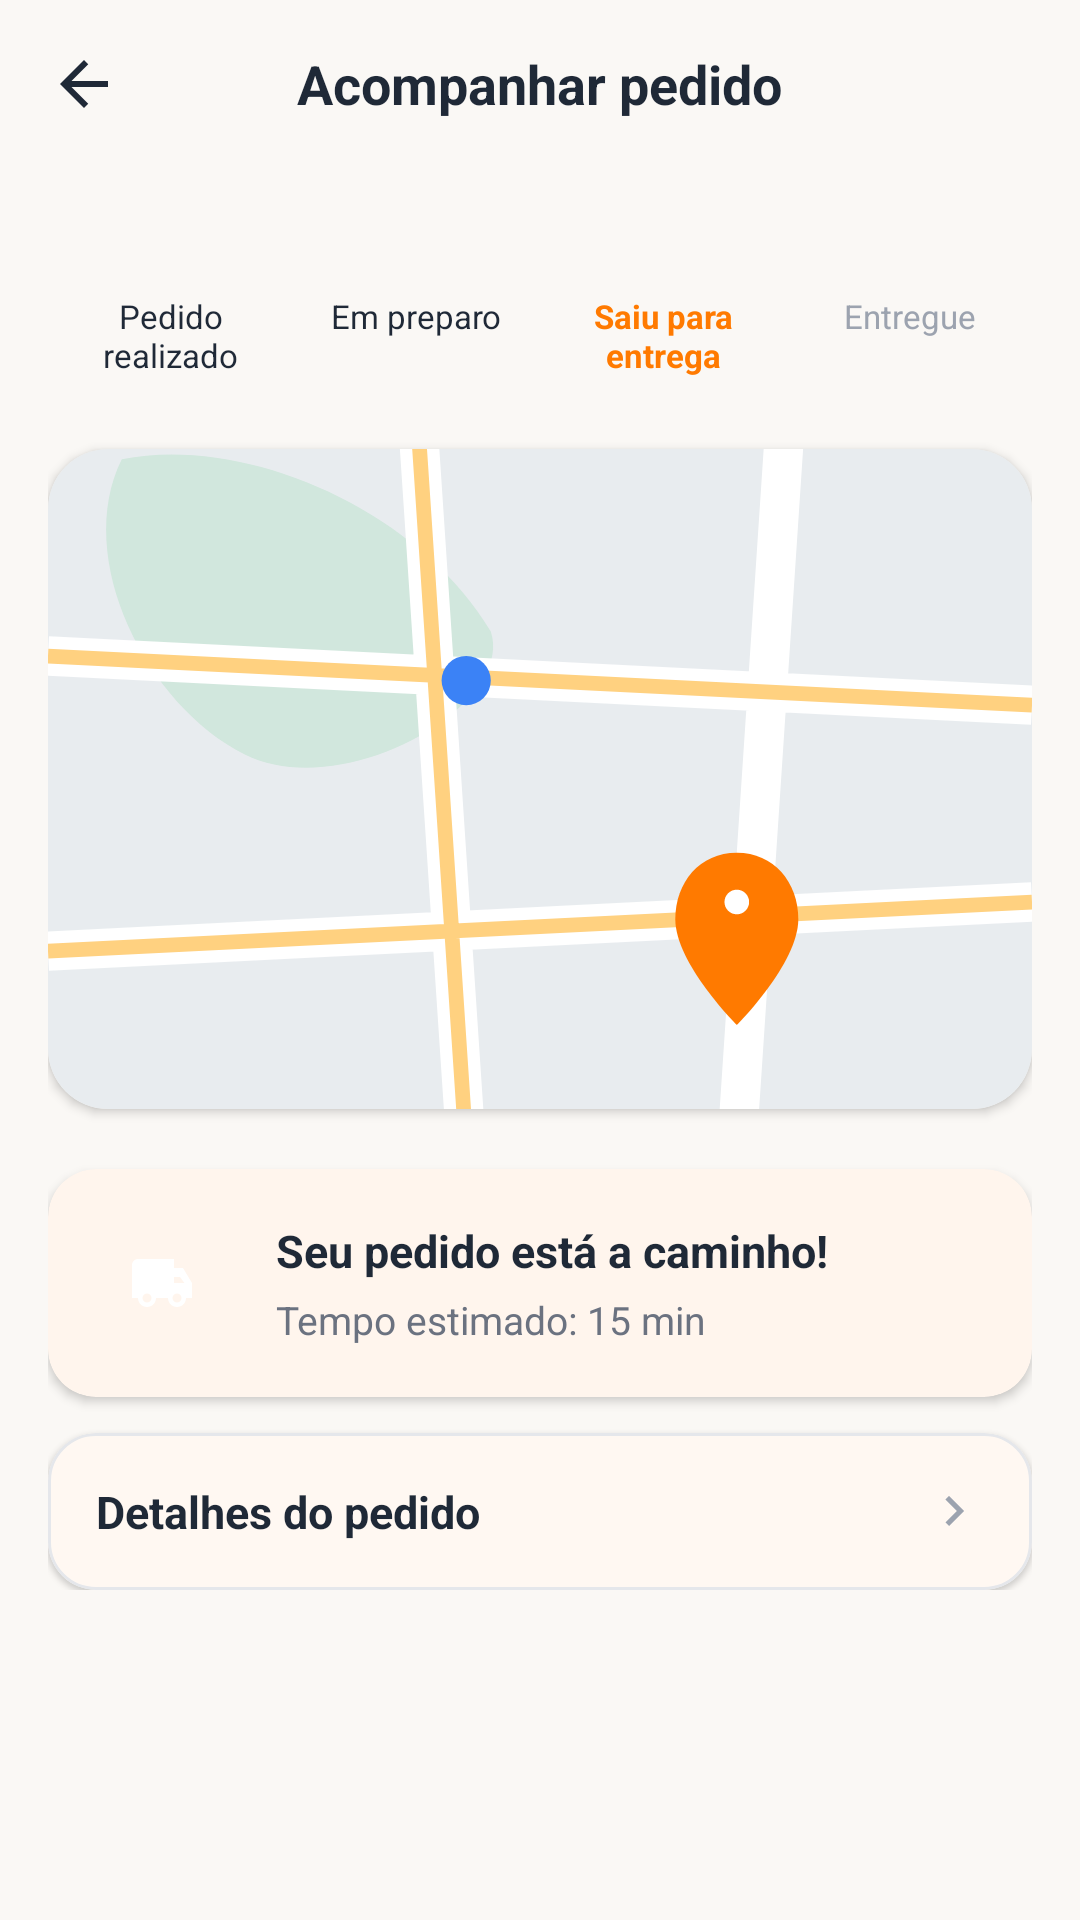

Locate icon controls on the screen. Image size 1080 × 1920, boxes as (x1, y1, x2, y2).
back: (60, 60, 108, 108)
chevron right: (945, 1496, 964, 1526)
